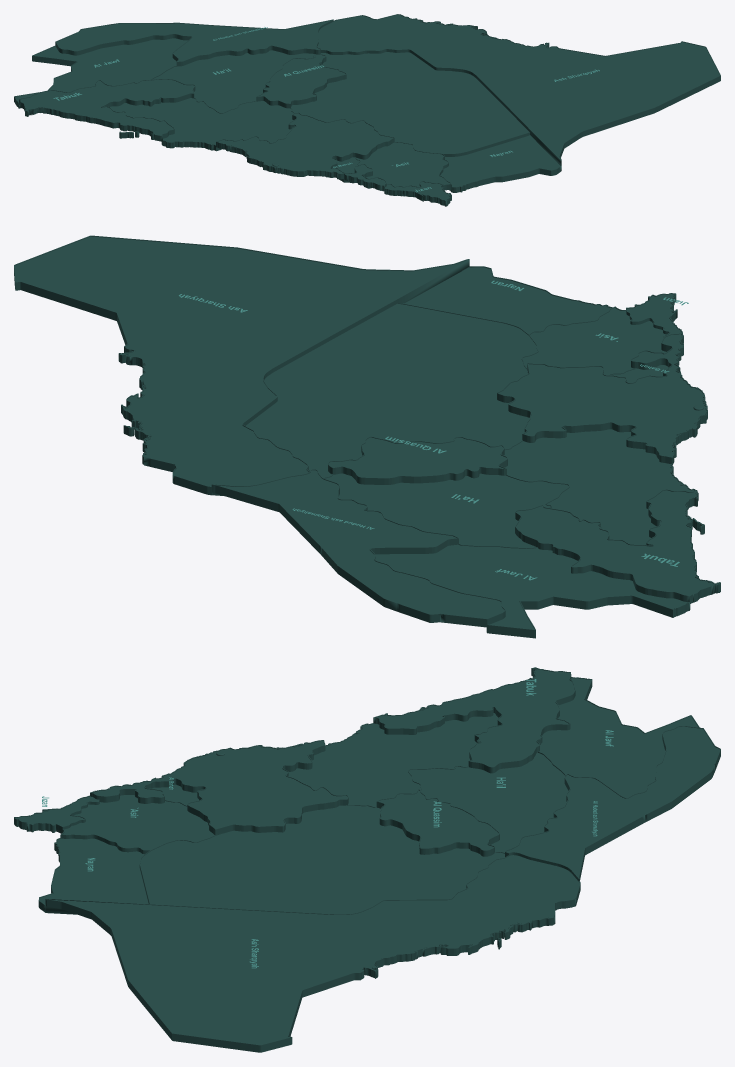
Rendered from map.glb.
The picture shows the model from 3 angles, top to bottom: view 1: azimuth 30°, elevation 25°; view 2: azimuth 150°, elevation 25°; view 3: azimuth 270°, elevation 25°; orthographic projection. The views are drawn at different scales.
Parts seen in each view (by area): view 1: hgfhg36, hgfhg38, hgfhg17, hgfhg24, hgfhg35, hgfhg33, hgfhg23, hgfhg25, hgfhg39, hgfhg062, hgfhg21, hgfhg34 (+11 smaller); view 2: hgfhg36, hgfhg38, hgfhg24, hgfhg17, hgfhg35, hgfhg23, hgfhg33, hgfhg25, hgfhg39, hgfhg21, hgfhg062, hgfhg34 (+7 smaller); view 3: hgfhg36, hgfhg38, hgfhg24, hgfhg35, hgfhg17, hgfhg23, hgfhg33, hgfhg25, hgfhg062, hgfhg39, hgfhg21, hgfhg34 (+7 smaller).
Part boxes in pixels (bbox=[...]): hgfhg36: bbox=[317, 15, 719, 159]; hgfhg38: bbox=[291, 52, 528, 153]; hgfhg17: bbox=[216, 113, 392, 191]; hgfhg24: bbox=[56, 21, 329, 61]; hgfhg35: bbox=[110, 98, 293, 151]; hgfhg33: bbox=[152, 50, 314, 112]; hgfhg23: bbox=[15, 38, 187, 108]; hgfhg25: bbox=[20, 79, 194, 141]; hgfhg39: bbox=[440, 135, 560, 192]; hgfhg062: bbox=[317, 14, 720, 165]; hgfhg21: bbox=[356, 142, 450, 190]; hgfhg34: bbox=[258, 55, 345, 103]; hgfhg36: bbox=[15, 236, 463, 495]; hgfhg38: bbox=[246, 303, 537, 477]; hgfhg24: bbox=[213, 470, 504, 627]; hgfhg17: bbox=[498, 334, 706, 457]; hgfhg35: bbox=[504, 429, 697, 544]; hgfhg23: bbox=[375, 544, 689, 638]; hgfhg33: bbox=[324, 473, 568, 547]; hgfhg25: bbox=[516, 490, 719, 603]; hgfhg39: bbox=[404, 267, 610, 333]; hgfhg21: bbox=[522, 307, 665, 375]; hgfhg062: bbox=[14, 235, 469, 495]; hgfhg34: bbox=[329, 437, 506, 477]; hgfhg36: bbox=[46, 855, 579, 1052]; hgfhg38: bbox=[140, 805, 504, 914]; hgfhg24: bbox=[506, 726, 719, 877]; hgfhg35: bbox=[288, 713, 498, 806]; hgfhg17: bbox=[93, 741, 347, 829]; hgfhg23: bbox=[539, 678, 698, 797]; hgfhg33: bbox=[409, 752, 568, 852]; hgfhg25: bbox=[376, 668, 574, 766]; hgfhg062: bbox=[45, 854, 580, 1052]; hgfhg39: bbox=[39, 838, 148, 914]; hgfhg21: bbox=[63, 795, 214, 849]; hgfhg34: bbox=[378, 790, 498, 850].
Size of the model in its own units: 23.29 by 0.7717 by 18.52.
